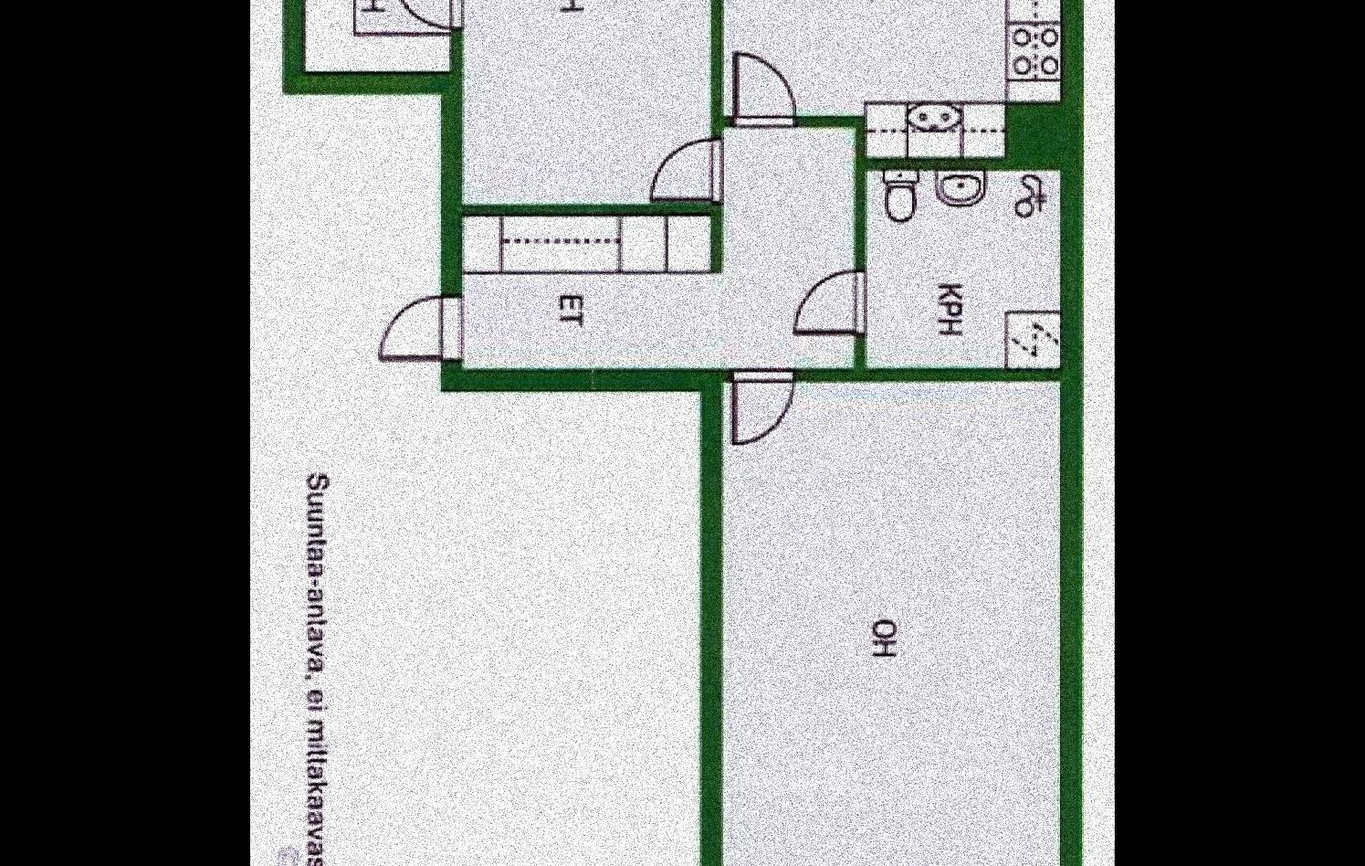door: (368, 286, 468, 367), (784, 275, 873, 349), (726, 359, 793, 450), (731, 41, 796, 131), (395, 0, 464, 35)
zone: (717, 377, 1061, 866), (466, 131, 853, 365), (463, 0, 712, 203), (724, 0, 1066, 147), (865, 170, 1061, 366), (303, 0, 457, 80)
